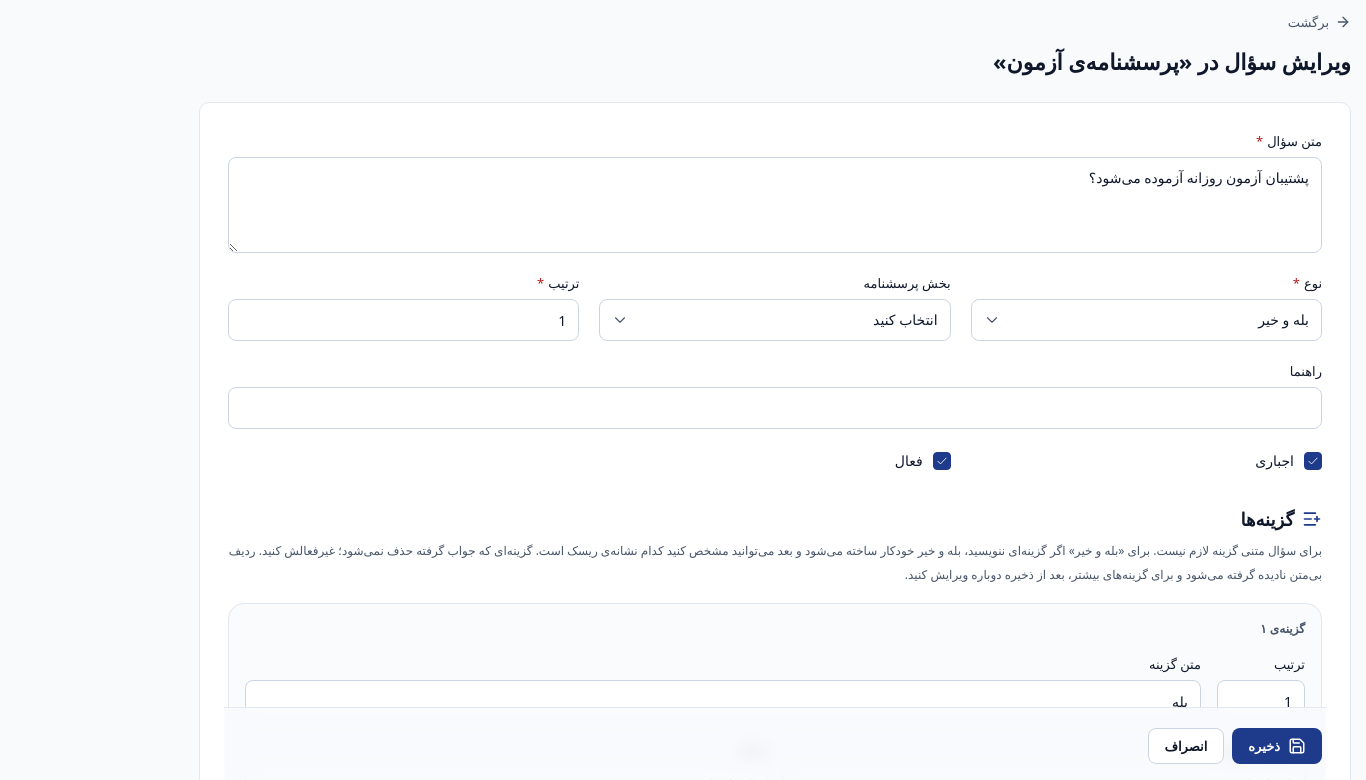
Test: QuestionFormPage › puts the Django option errors next to the option and names its row in the summary
Click the button "ذخیره".
click(1277, 746)  # box [1232, 728, 1322, 764]
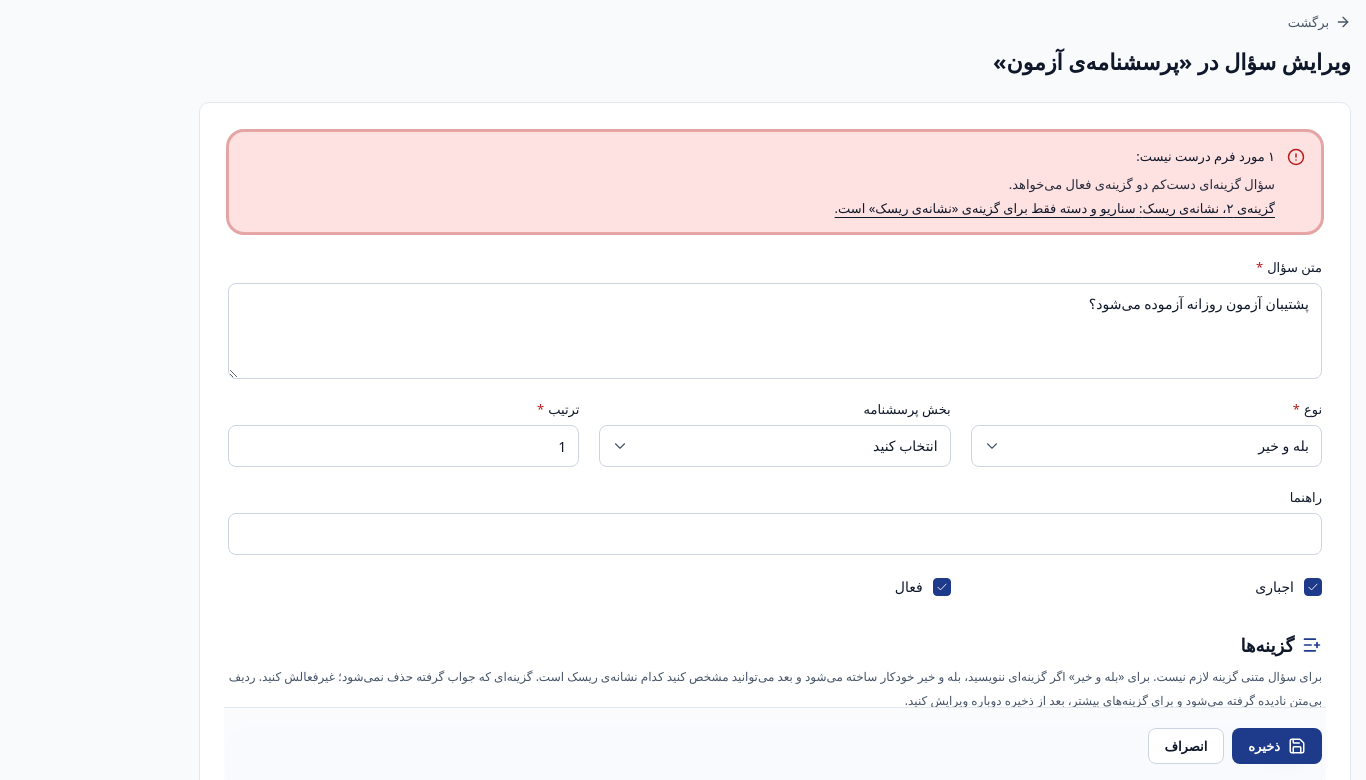
Check: the message shows "سؤال گزینه‌ای دست‌کم دو گزینه‌ی فعال می‌خواهد.", box [1009, 175, 1275, 193]
Check: the link "گزینه‌ی ۲، نشانه‌ی ریسک" is shown, box [835, 199, 1275, 217]
